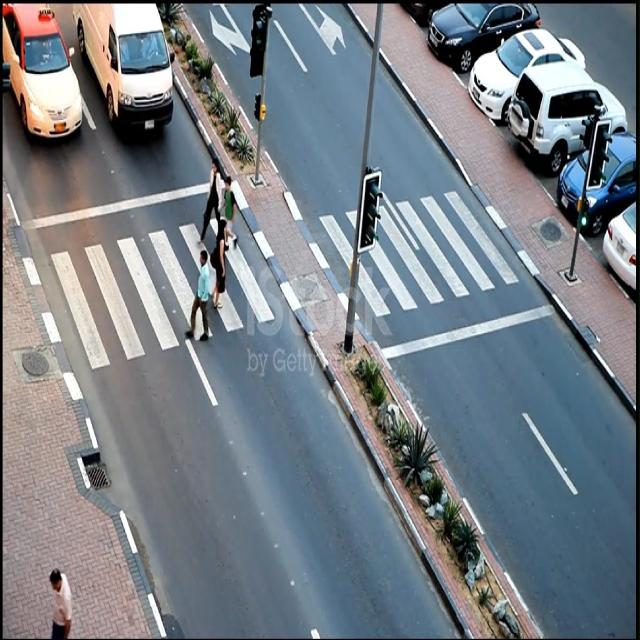pedestrian: (185, 252, 209, 340), (201, 160, 221, 242), (211, 219, 226, 307), (223, 176, 237, 246)
